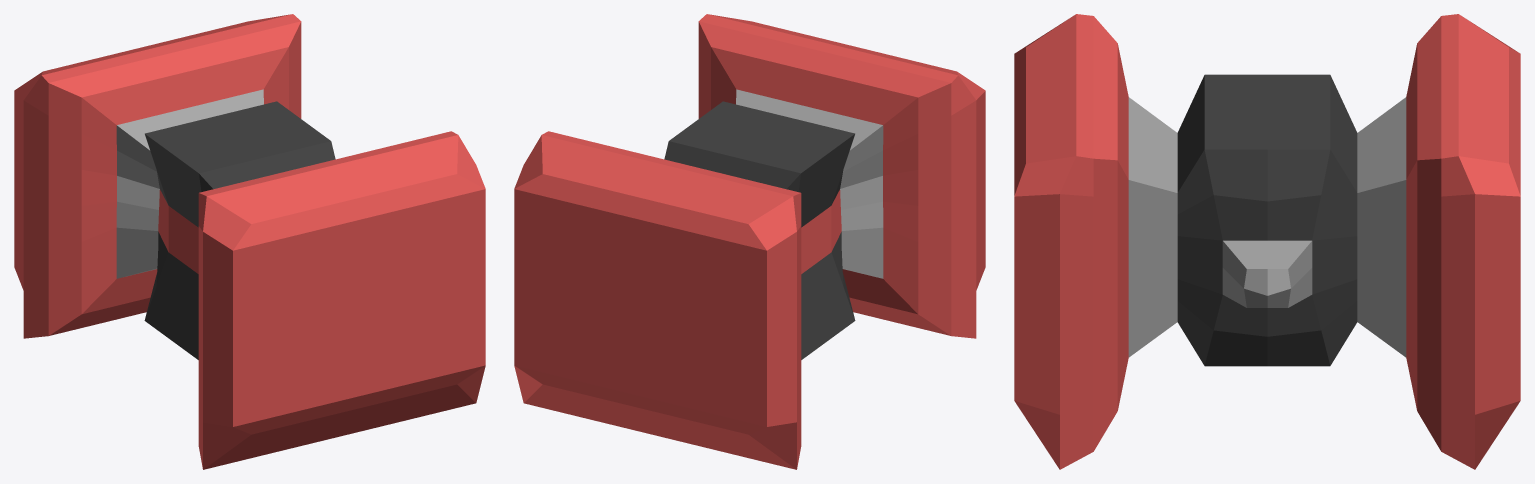
Rendered from enemyShip.fbx.
3 views of the same model, side by side, from view 1: azimuth 30°, elevation 25°; view 2: azimuth 150°, elevation 25°; view 3: azimuth 270°, elevation 25° (orthographic). The views are drawn at different scales.
Visible parts, largest first — view 1: Enemy; view 2: Enemy; view 3: Enemy.
Part boxes in pixels (bbox=[...]): Enemy: bbox=[14, 14, 485, 469]; Enemy: bbox=[514, 14, 985, 469]; Enemy: bbox=[1014, 14, 1520, 469].
Size of the model in its own units: 409 by 380 by 567.
